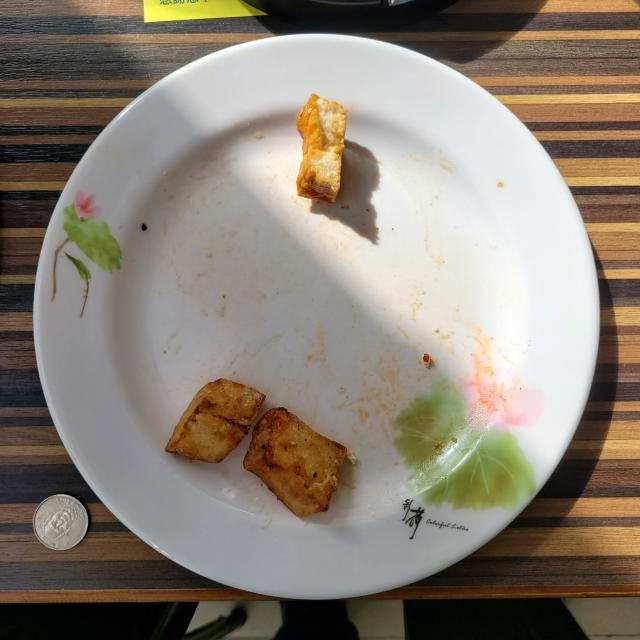coin: (32, 494, 89, 550)
creamy tofu: (296, 94, 346, 202)
fried potato: (166, 379, 355, 518)
